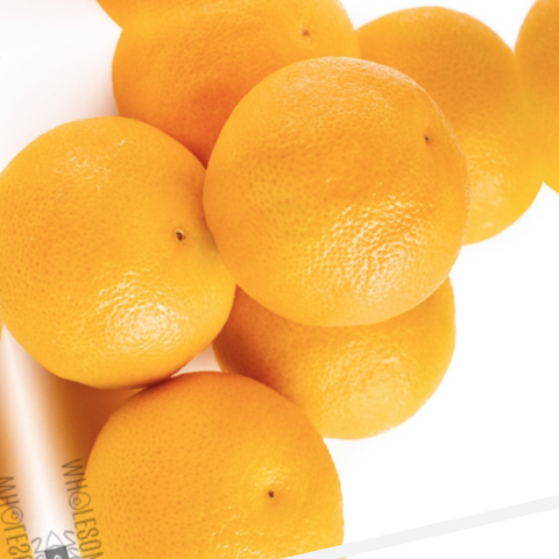orange: (173, 20, 499, 373), (0, 77, 274, 454), (46, 332, 397, 559)
